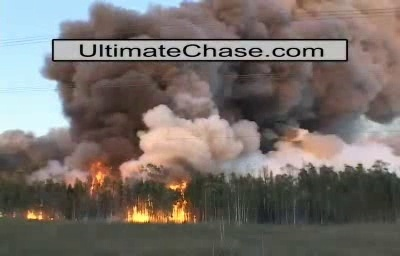fire: (124, 179, 198, 223), (23, 205, 54, 220)
